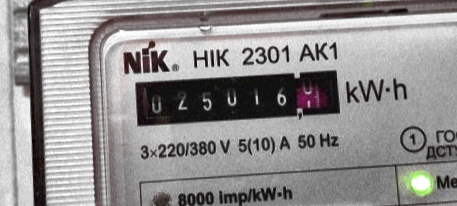0: (223, 83, 239, 106), (148, 91, 162, 113), (299, 74, 312, 94)
1: (248, 80, 261, 106), (302, 97, 311, 108)
2: (174, 86, 188, 110)
5: (199, 88, 211, 110)
6: (272, 82, 287, 108)
screen: (124, 59, 349, 132)
